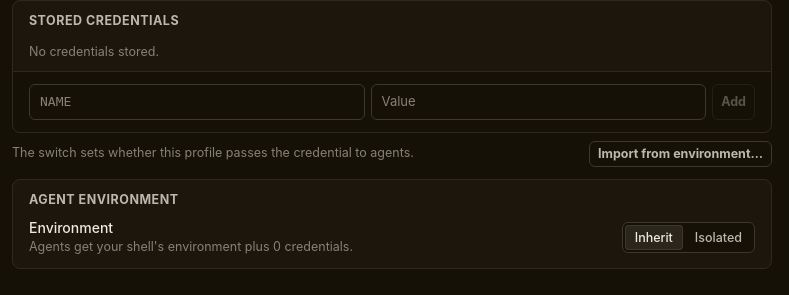
Test: CredentialsSection › never renders a credential value after save, and clears the field synchronously
Expected: the list item "No credentials stored." is shown, [29,44,159,59]
In the field labelled "NAME": {"x": 197, "y": 102} [29,84,365,120], type "OPENAI_API_KEY"
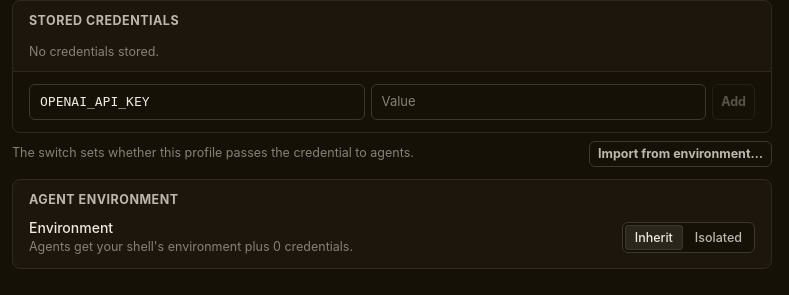
In the password field labelled "Value": {"x": 538, "y": 102} [371,84,706,120], type "sk-live-do-not-render-this-value"
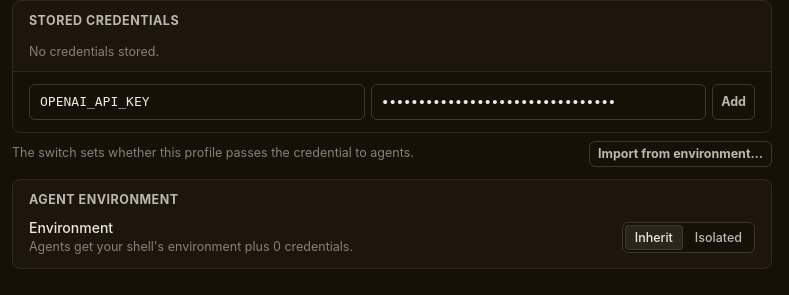
Click the button "Add": {"x": 734, "y": 102} [712,84,755,120]
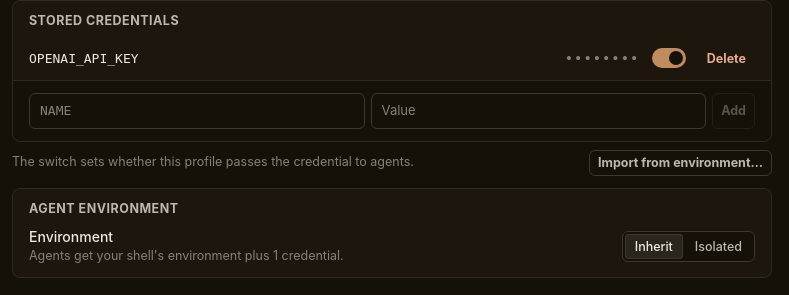
Expected: the password field labelled "Value" is empty, [371,93,706,128]
Expected: the text "OPENAI_API_KEY" is shown, [29,50,139,66]
